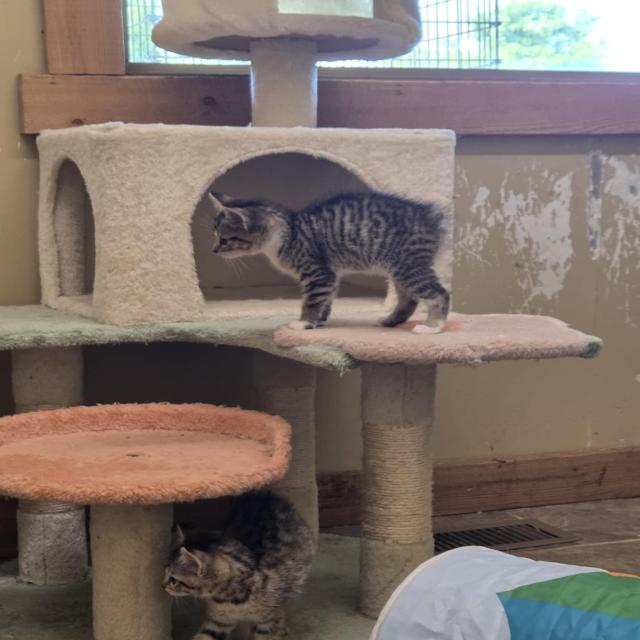manx_cat: (148, 512, 257, 608), (196, 182, 299, 268)
